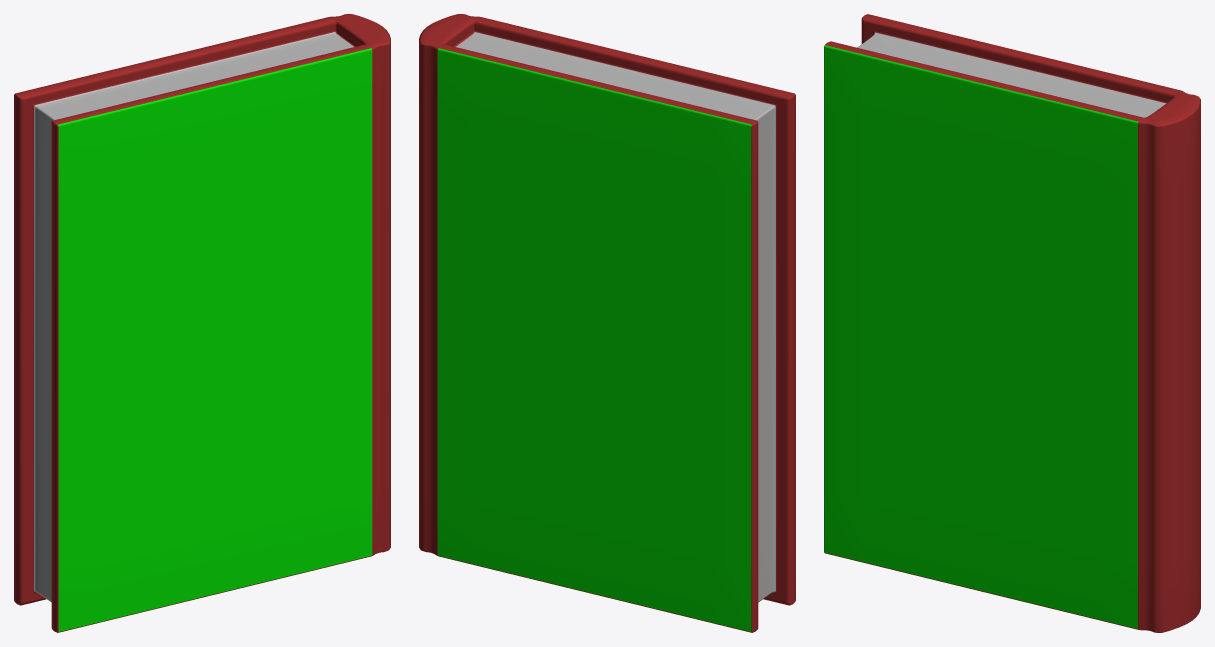
The model's file is book 1.fbx.
3 renders of one model, left to right at view 1: azimuth 30°, elevation 25°; view 2: azimuth 150°, elevation 25°; view 3: azimuth 330°, elevation 25°, orthographic.
Visible parts, largest first — view 1: pCube2; view 2: pCube2; view 3: pCube2.
Part boxes in pixels (<box>): pCube2: <box>14,14,390,632</box>; pCube2: <box>419,14,795,632</box>; pCube2: <box>824,14,1200,632</box>.
Bounding box in the file's own units: 13.56 × 19 × 3.
